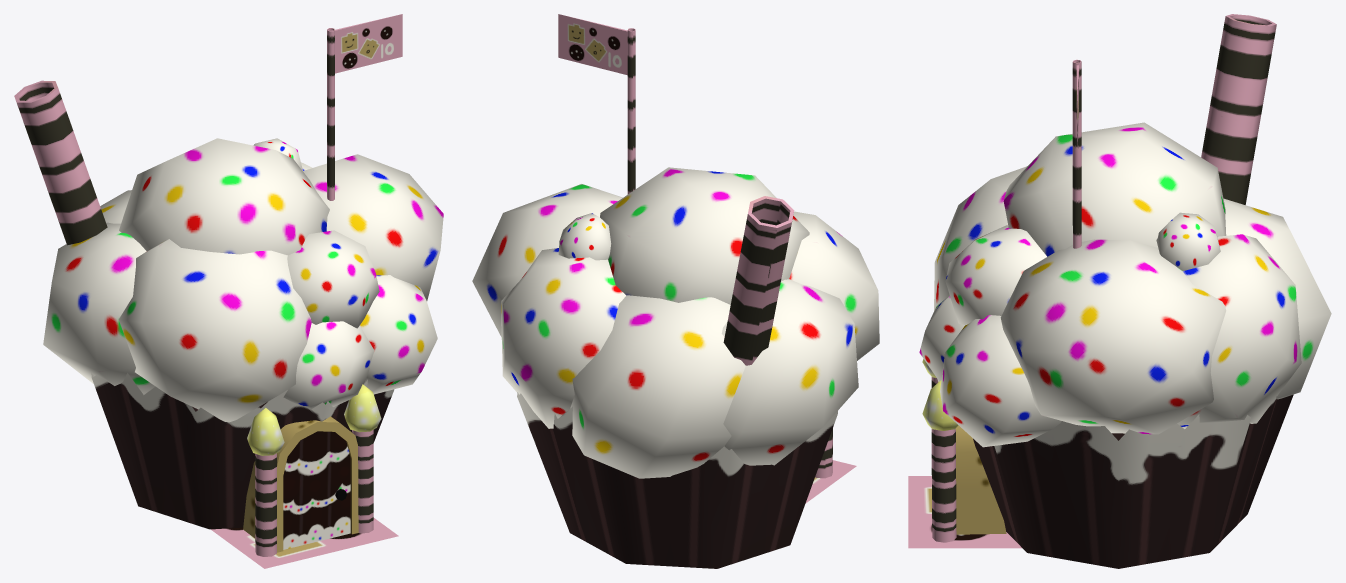
The model's file is House_unwrap.FBX.
3 renders of one model, left to right at view 1: azimuth 30°, elevation 25°; view 2: azimuth 150°, elevation 25°; view 3: azimuth 270°, elevation 25°, orthographic. The views are drawn at different scales.
Visible parts, largest first — view 1: Cylinder001; view 2: Cylinder001; view 3: Cylinder001.
Part boxes in pixels (bbox=[...]): Cylinder001: bbox=[14, 14, 443, 568]; Cylinder001: bbox=[472, 14, 879, 568]; Cylinder001: bbox=[908, 14, 1331, 568].
Bounding box in the file's own units: 58.15 × 70.24 × 54.77.
1 material, 1 textured.
